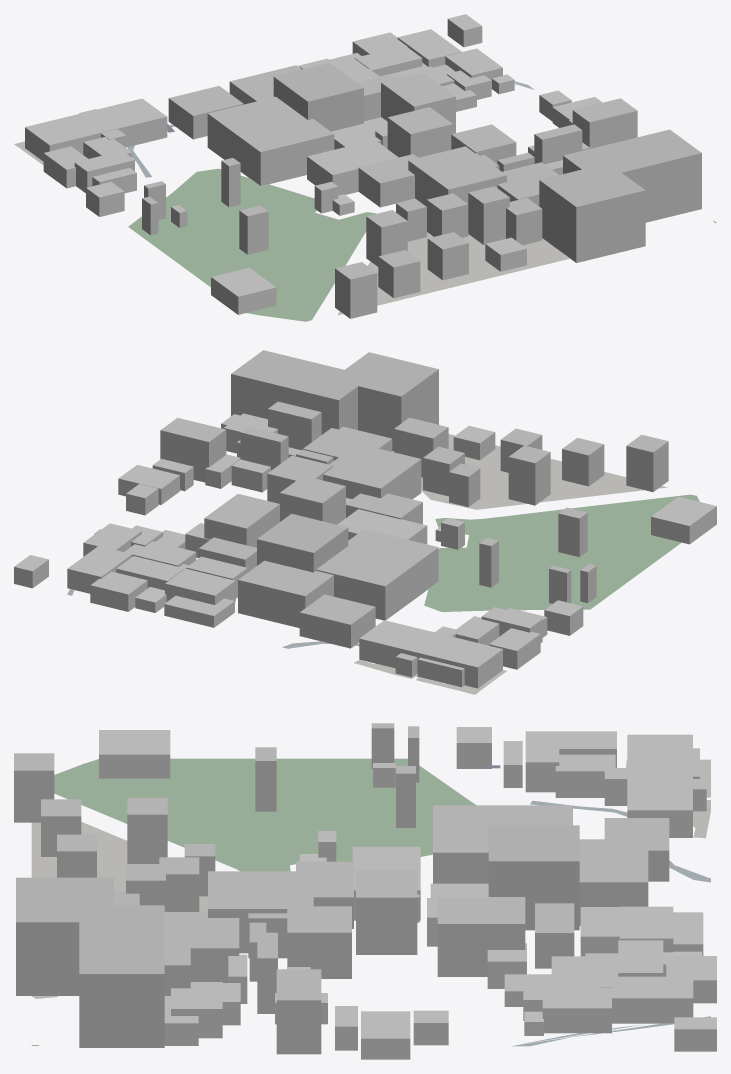
Rendered from 116_104_mid.glb.
3 views of the same model, one above another, from view 1: azimuth 30°, elevation 25°; view 2: azimuth 150°, elevation 25°; view 3: azimuth 270°, elevation 25° (orthographic). The views are drawn at different scales.
Size of the model in its own units: 536 by 60.89 by 518.
